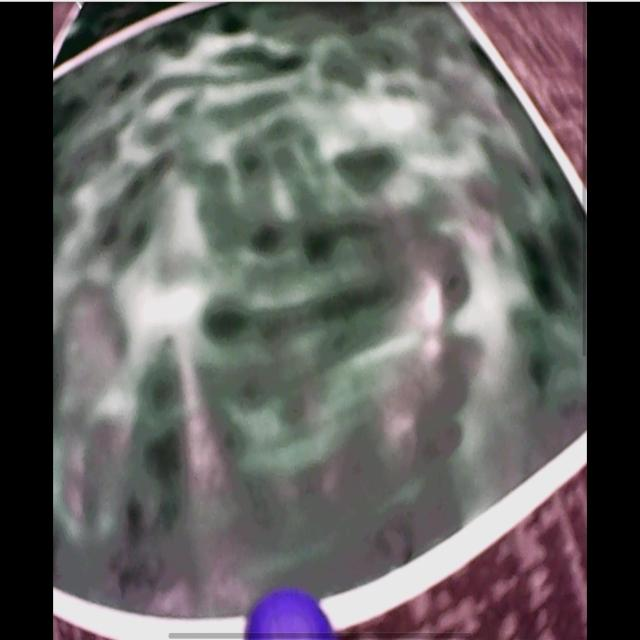ball: (246, 593, 336, 638)
